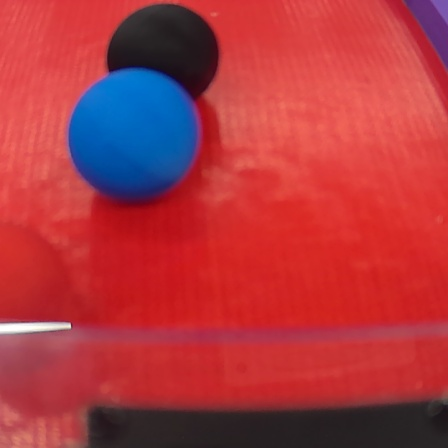black: (108, 4, 224, 103)
blue: (66, 63, 211, 207)
red: (0, 219, 61, 365)
red_aim: (5, 3, 448, 448)
